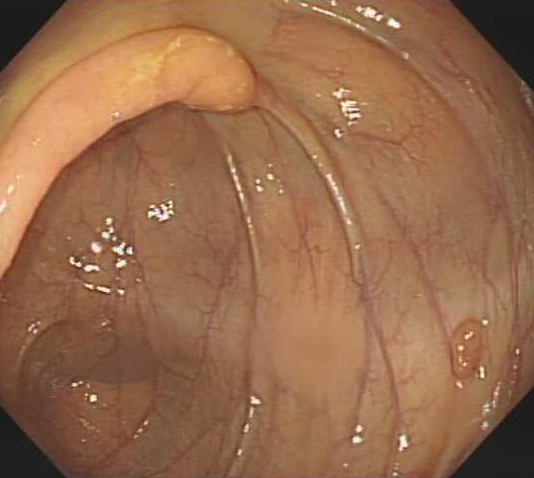adenoma: (445, 315, 487, 381)
